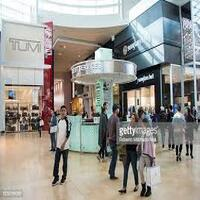person: (57, 103, 77, 135), (96, 99, 113, 131), (112, 99, 125, 140), (172, 103, 184, 131), (46, 102, 58, 130)
